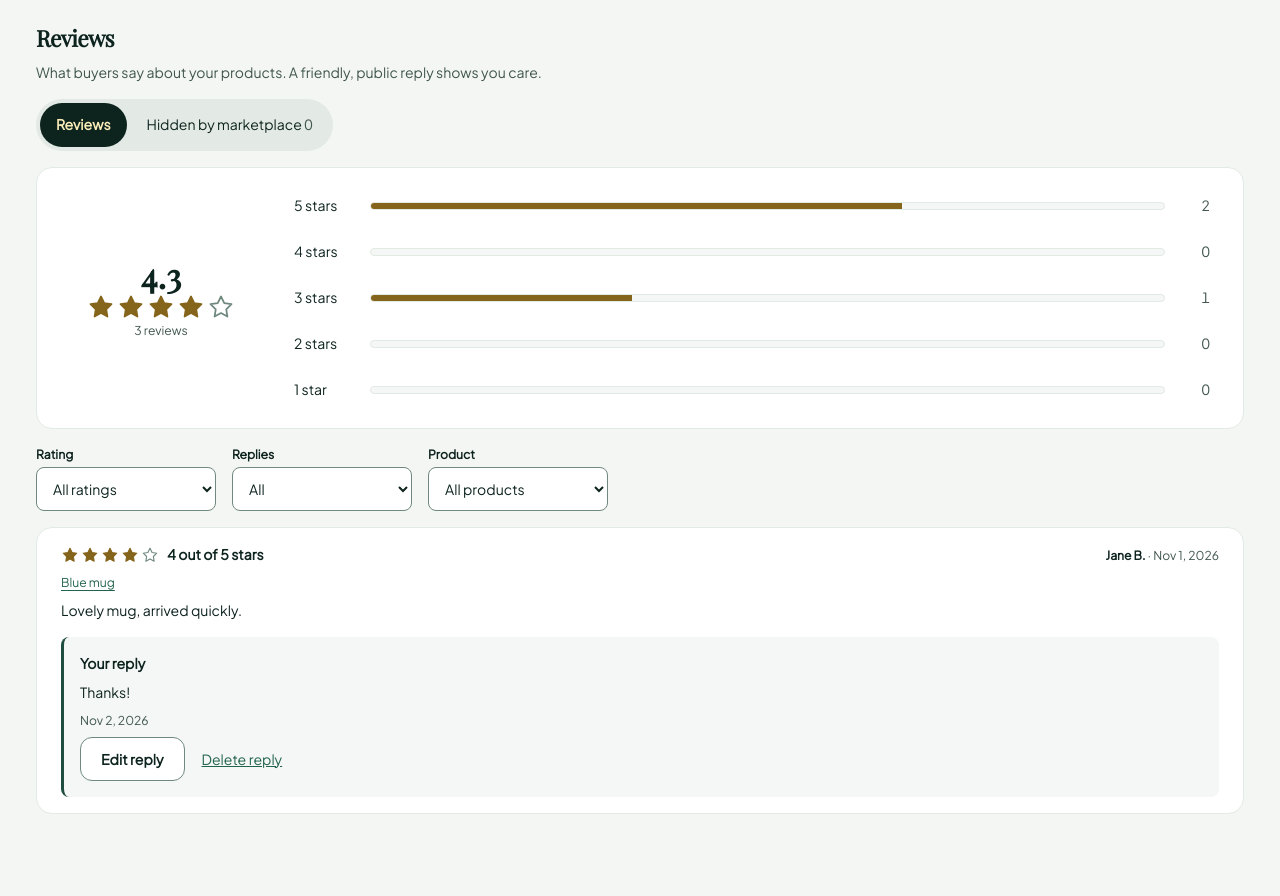
Test: delete reply › asks for confirmation first; keeping the reply sends nothing
Step 1. Click the button "Delete reply" → (242, 759), box [192,737,291,781]
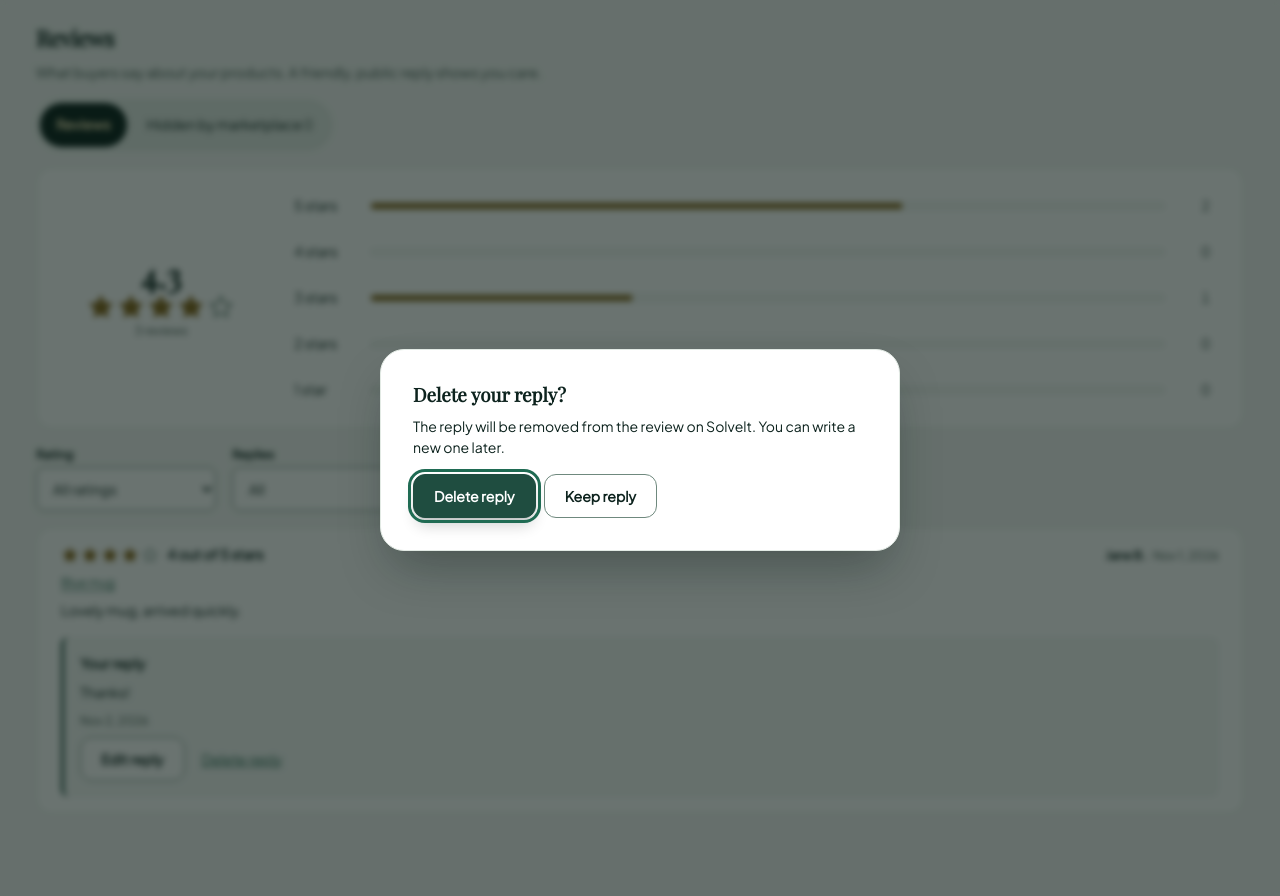
expect the dialog "Delete your reply?" is shown: met, box [380,349,900,551]
Step 2. Click the button "Keep reply" → (600, 496), box [544,474,657,518]
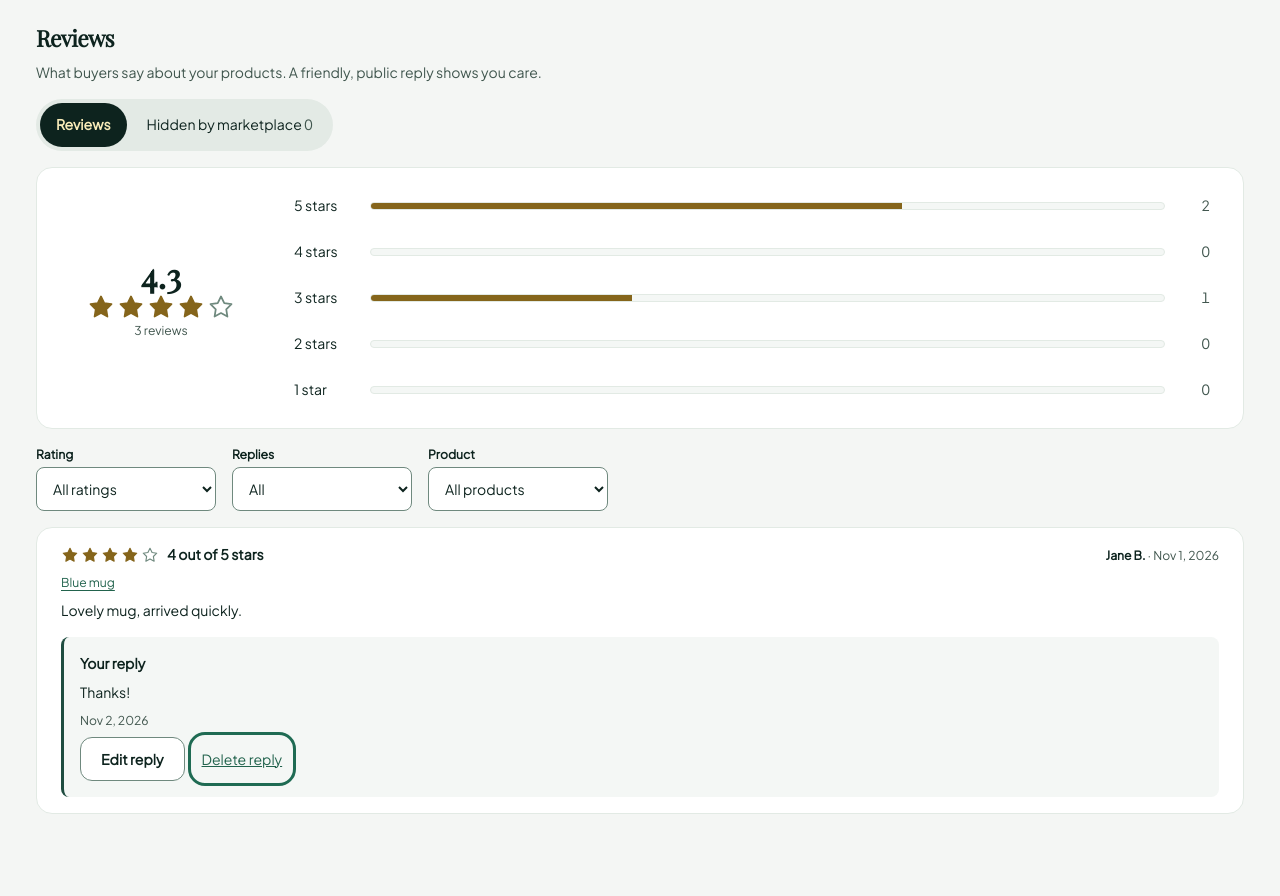
expect the dialog is gone: met
Step 3. Click the button "Delete reply" → (242, 759), box [192,737,291,781]
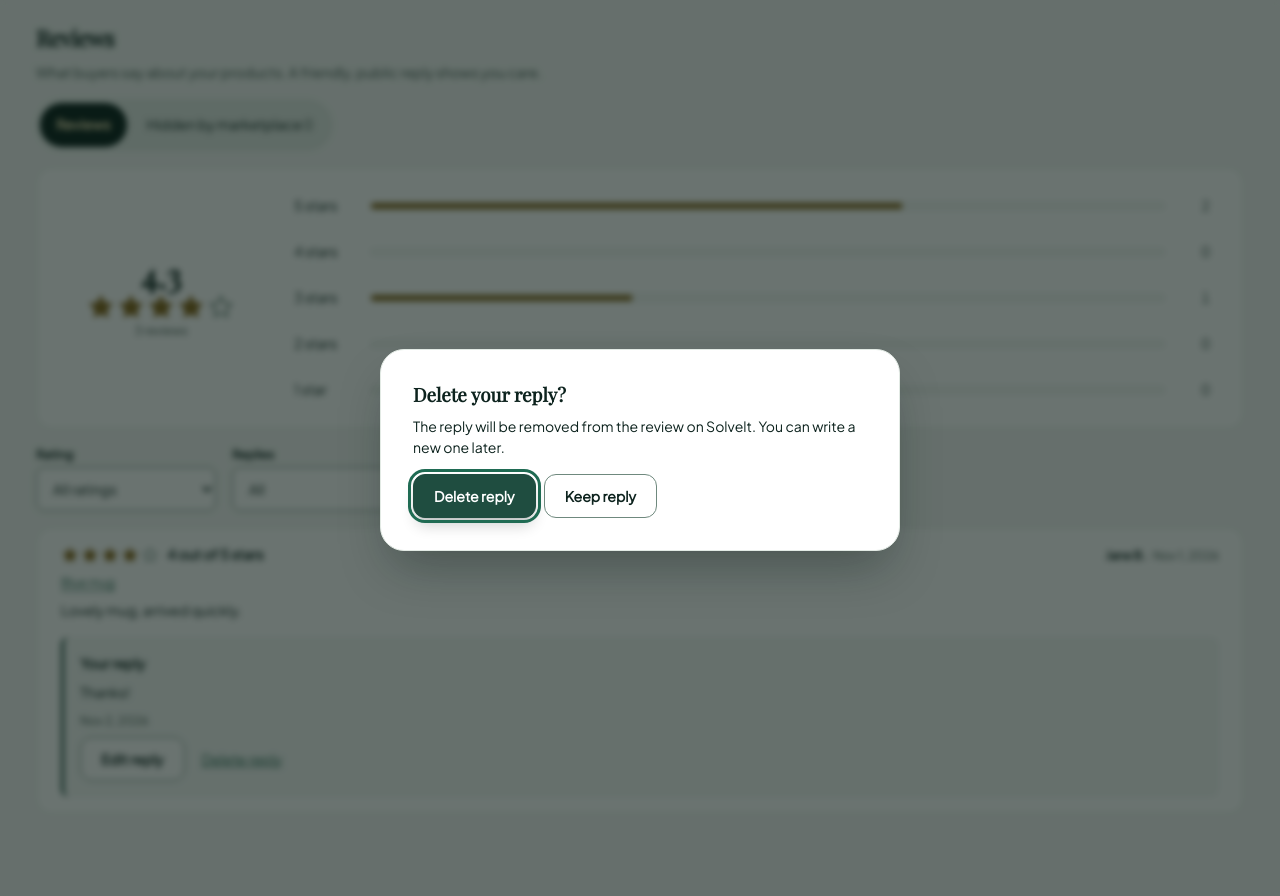
Step 4. Press Escape
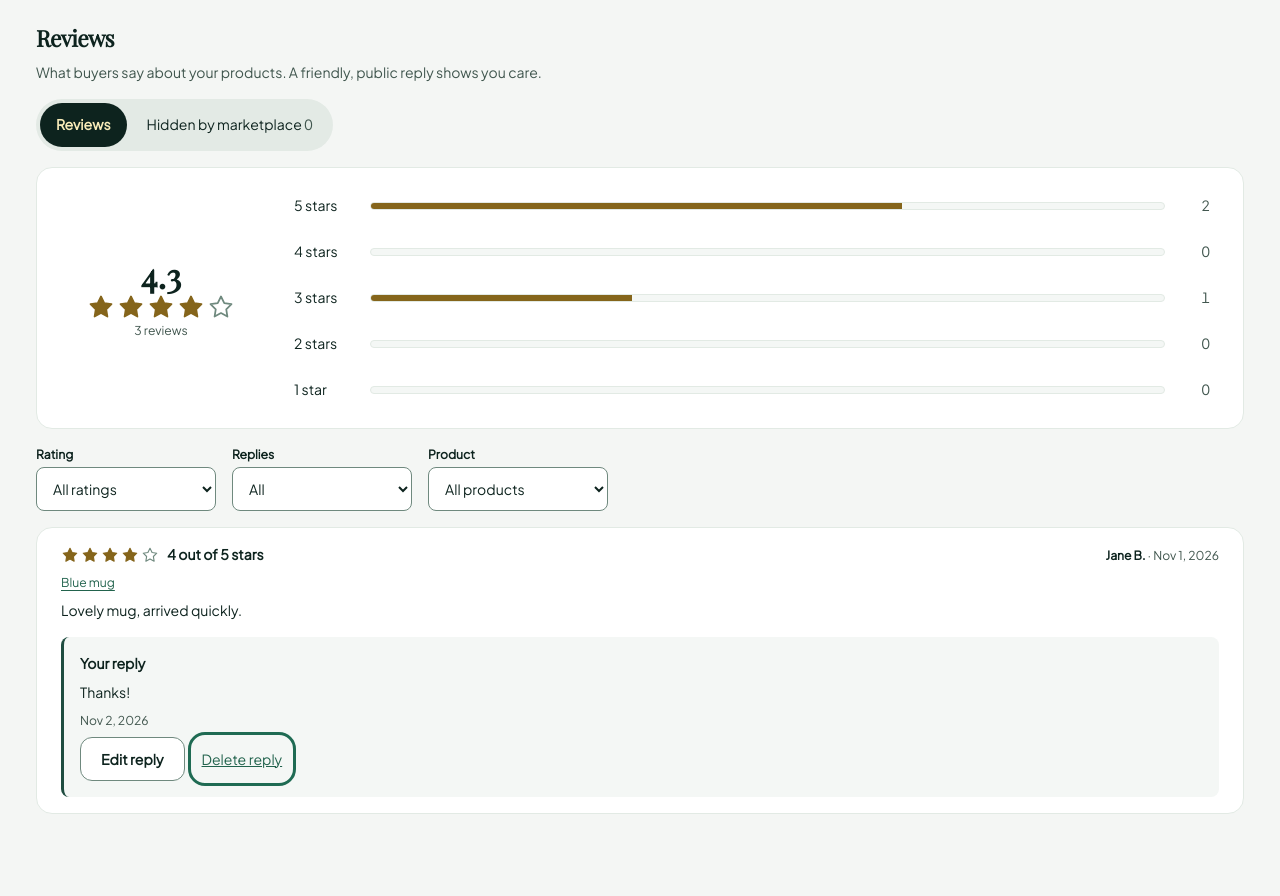
expect the dialog is gone: met
